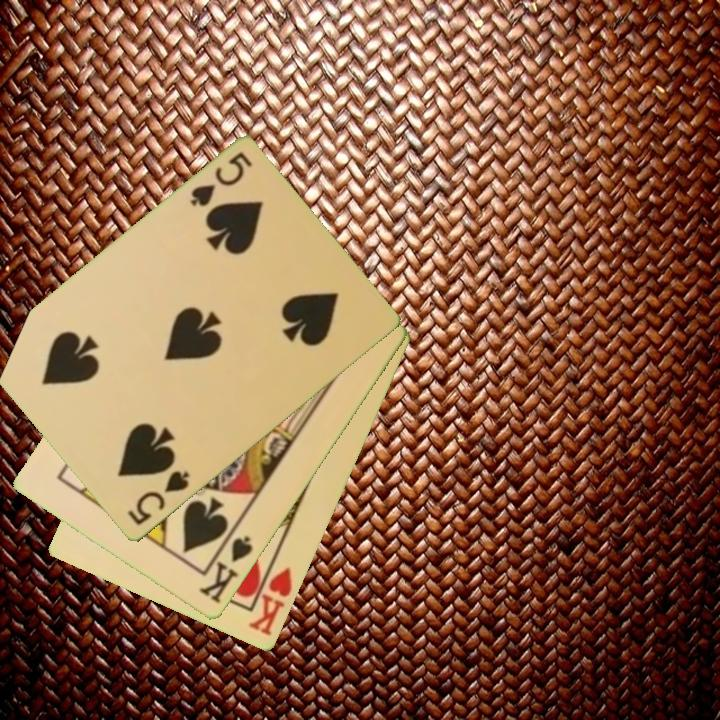5s: (186, 148, 256, 210), (124, 467, 193, 529)
Kh: (245, 554, 296, 640)
Ks: (195, 526, 256, 607)
